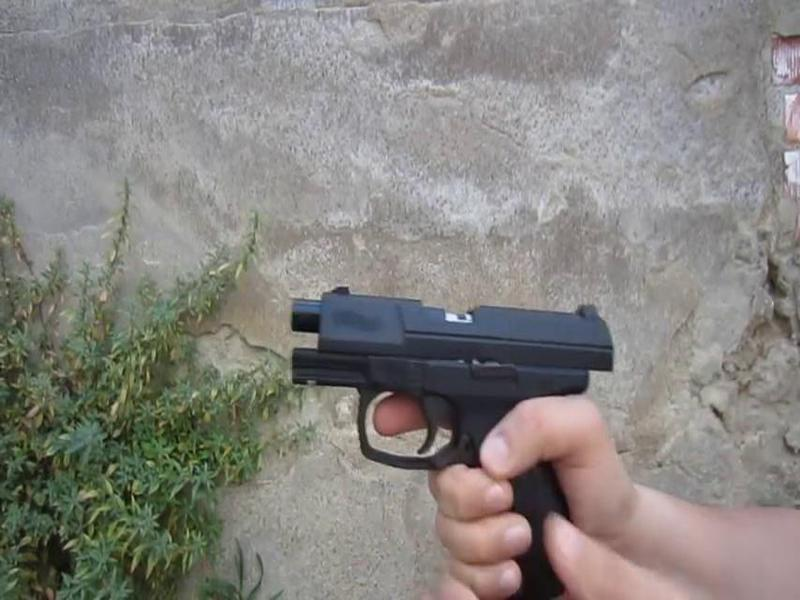Pistola: (265, 279, 651, 591)
